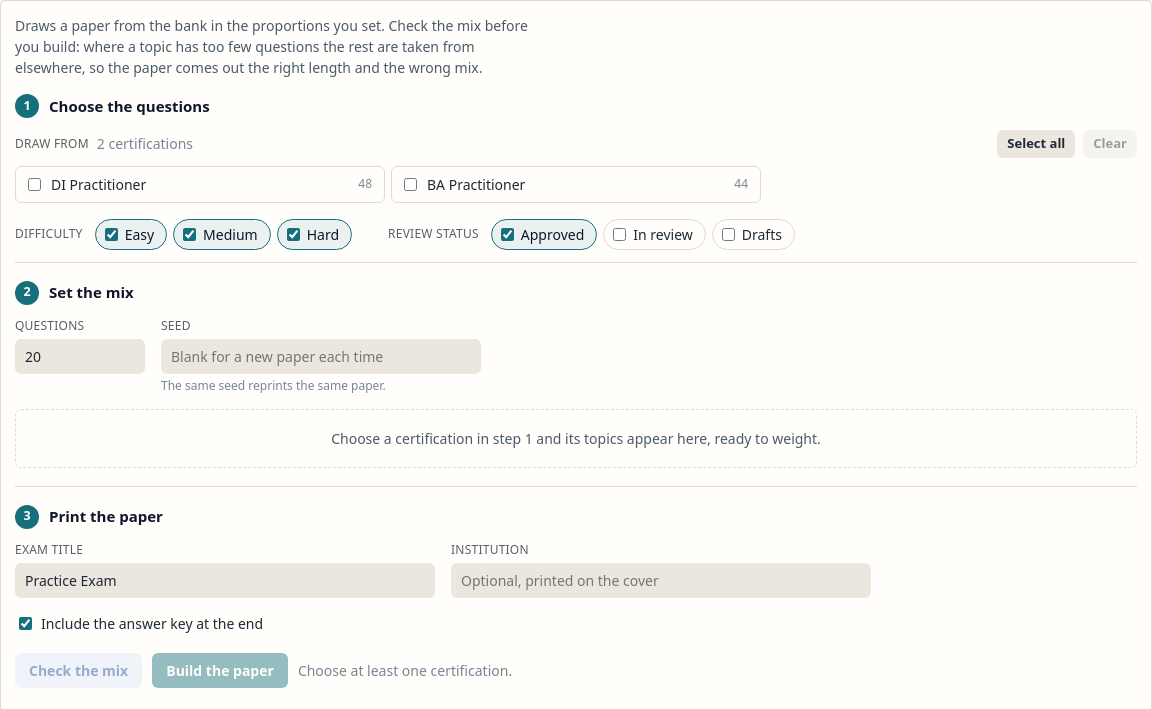
setting up the weighting › selects all and clears in one click, and counts what is chosen
The width and height of the screenshot is (1152, 709).
Click the button "Select all".
click(1036, 144)  # box [997,130,1075,158]
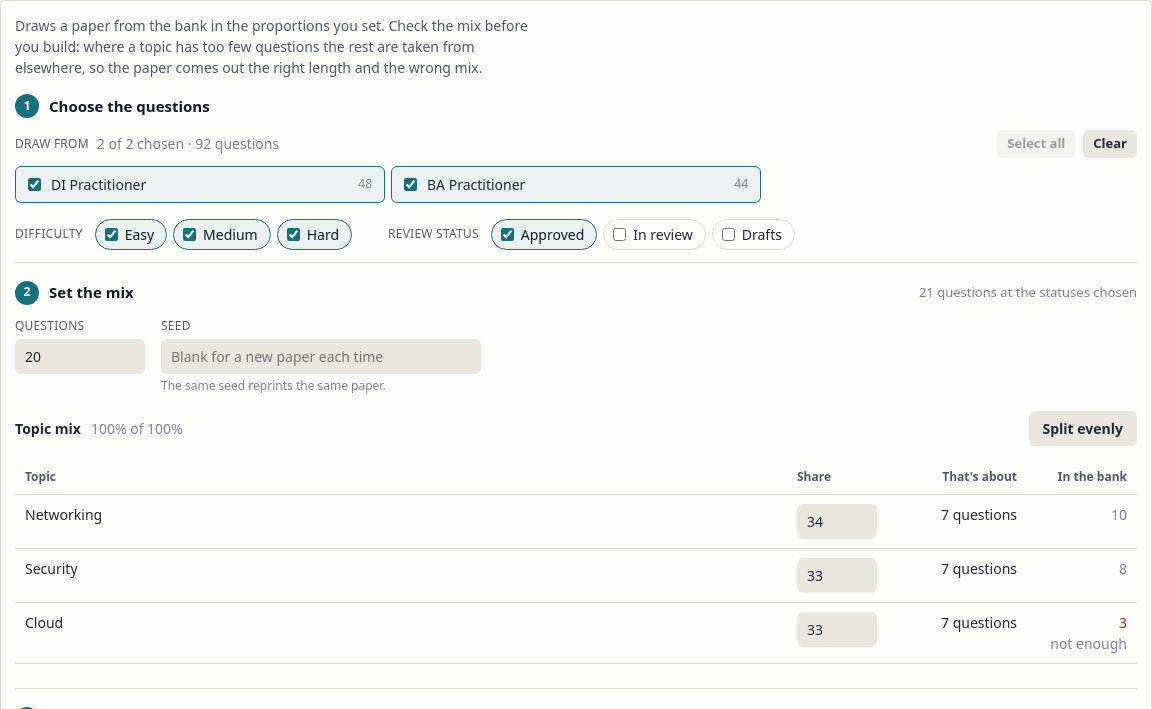
Expected: the checkbox labelled "DI Practitioner 48" is checked, [28,178,41,190]
Expected: the checkbox labelled "BA Practitioner 44" is checked, [404,178,417,190]
Expected: the text "2 of 2 chosen · 92 questions" is shown, [97,133,279,154]
Click the button "Clear".
click(1110, 144)  # box [1083,130,1137,158]
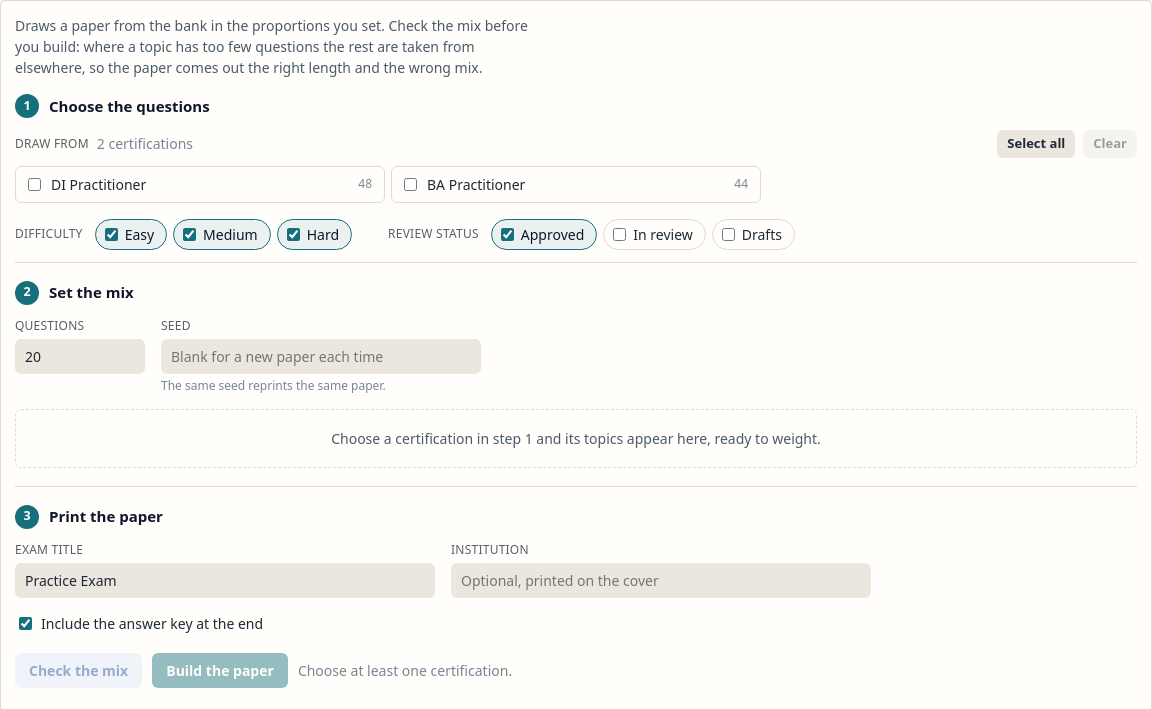
Expected: the checkbox labelled "DI Practitioner 48" is not checked, [28,178,41,190]
Expected: the button "Clear" is disabled, [1083,130,1137,158]
